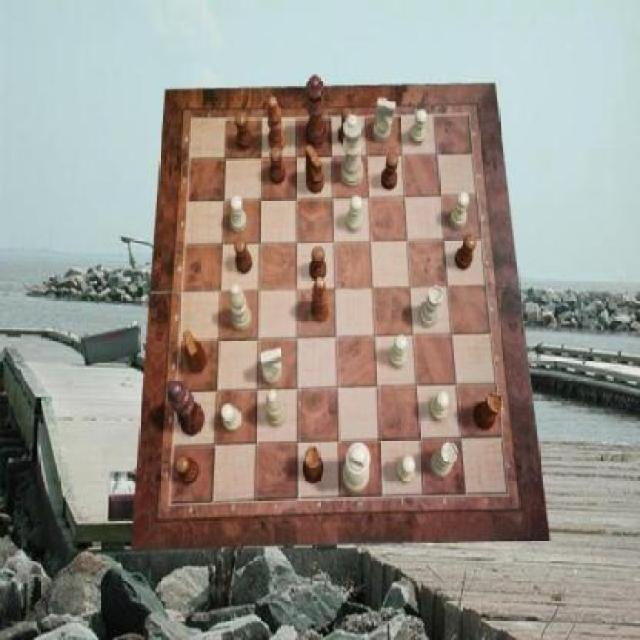bishop: (266, 97, 286, 153), (311, 278, 331, 322)
black-bishop: (168, 379, 205, 436)
black-king: (183, 330, 207, 374), (304, 147, 324, 196)
black-knight: (455, 234, 478, 270), (235, 114, 253, 152), (338, 109, 356, 147), (176, 457, 200, 485), (235, 238, 253, 274), (382, 152, 399, 190), (310, 248, 328, 282), (270, 146, 286, 184)
black-pawn: (305, 76, 327, 150)
black-queen: (472, 392, 502, 431), (303, 446, 324, 484)
black-rook: (230, 285, 252, 332), (266, 389, 287, 427)
white-bishop: (343, 442, 371, 492)
white-king: (374, 99, 397, 142), (260, 346, 283, 384)
white-knight: (451, 192, 471, 230), (388, 335, 408, 370), (429, 391, 450, 422), (409, 110, 427, 146), (346, 195, 363, 233), (231, 196, 247, 232), (397, 457, 417, 485), (222, 405, 242, 432)
white-pawn: (342, 114, 364, 188)
white-queen: (419, 285, 443, 327), (431, 442, 458, 478)
